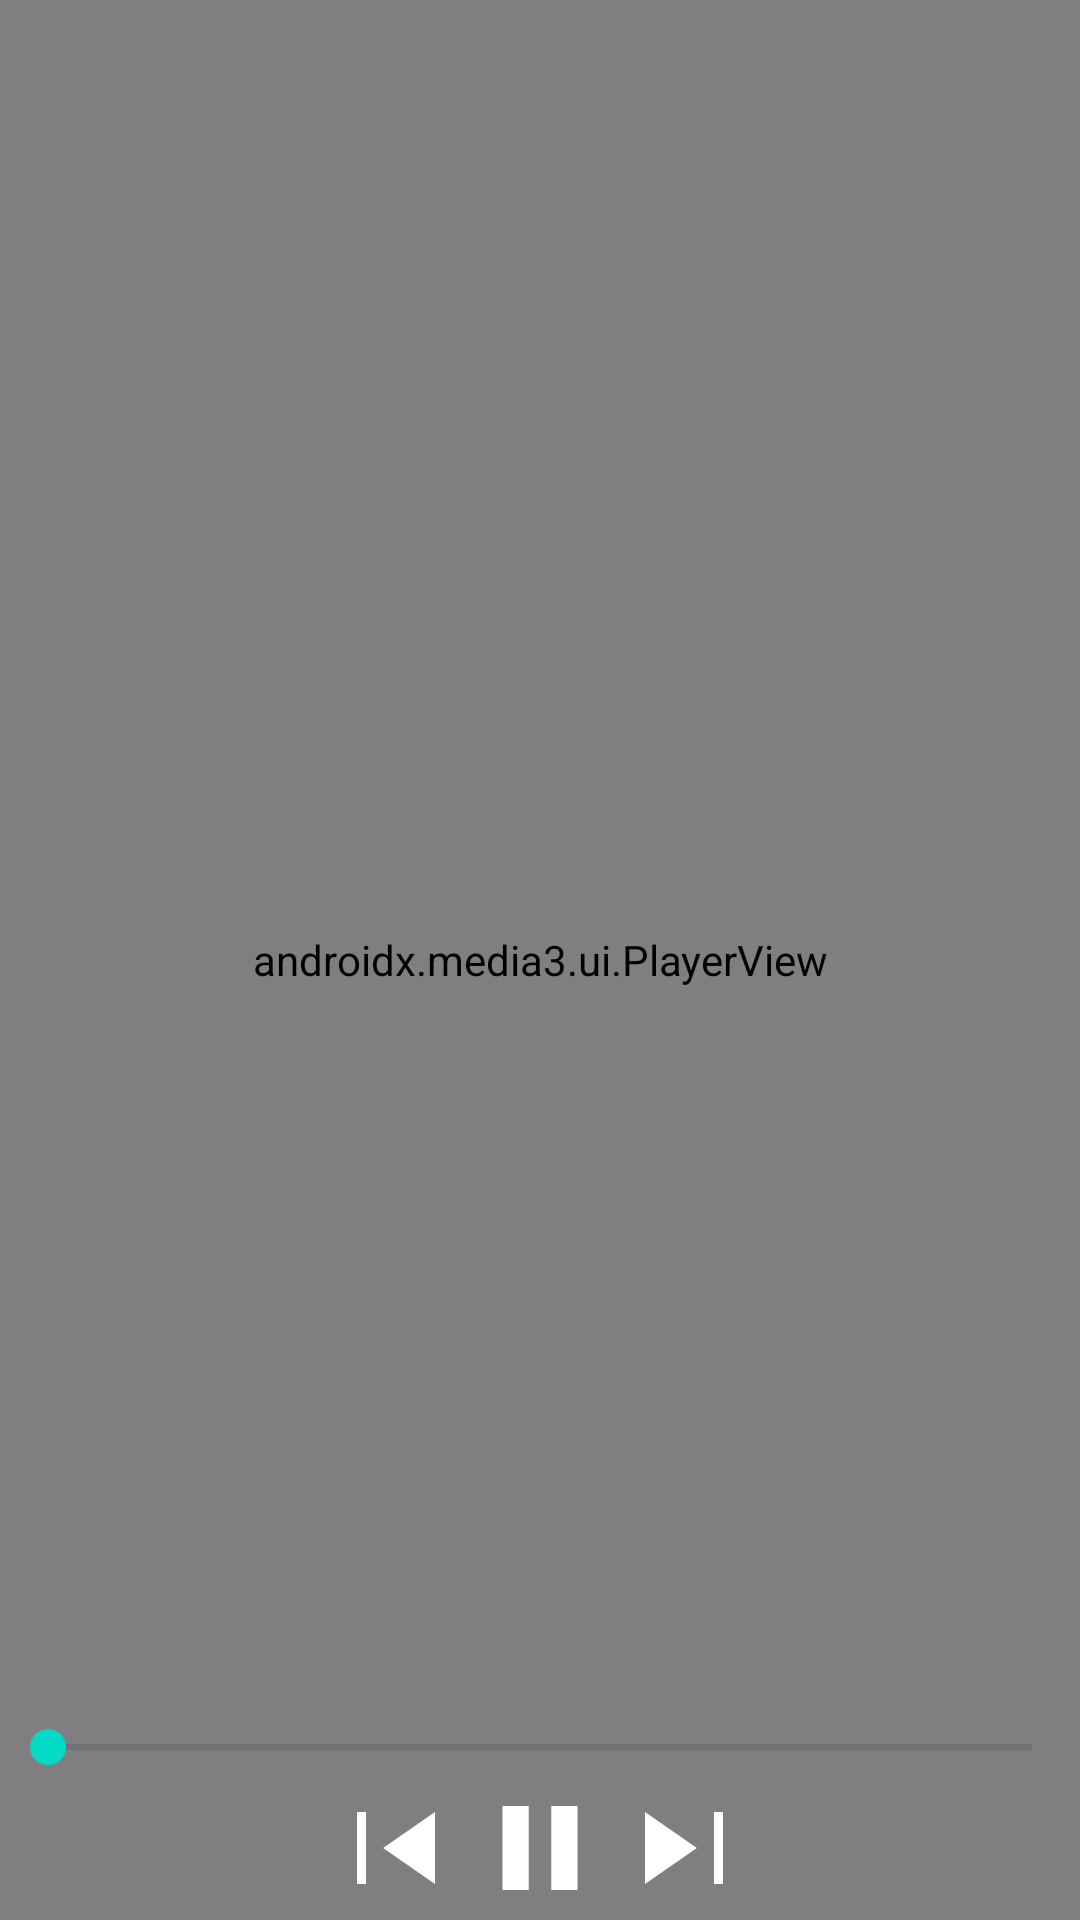

Named icons in this screenshot (1080px×1920px) and their centers, (x=x, y=y):
pause: (x=540, y=1848)
skip next: (x=684, y=1848)
skip previous: (x=396, y=1848)
